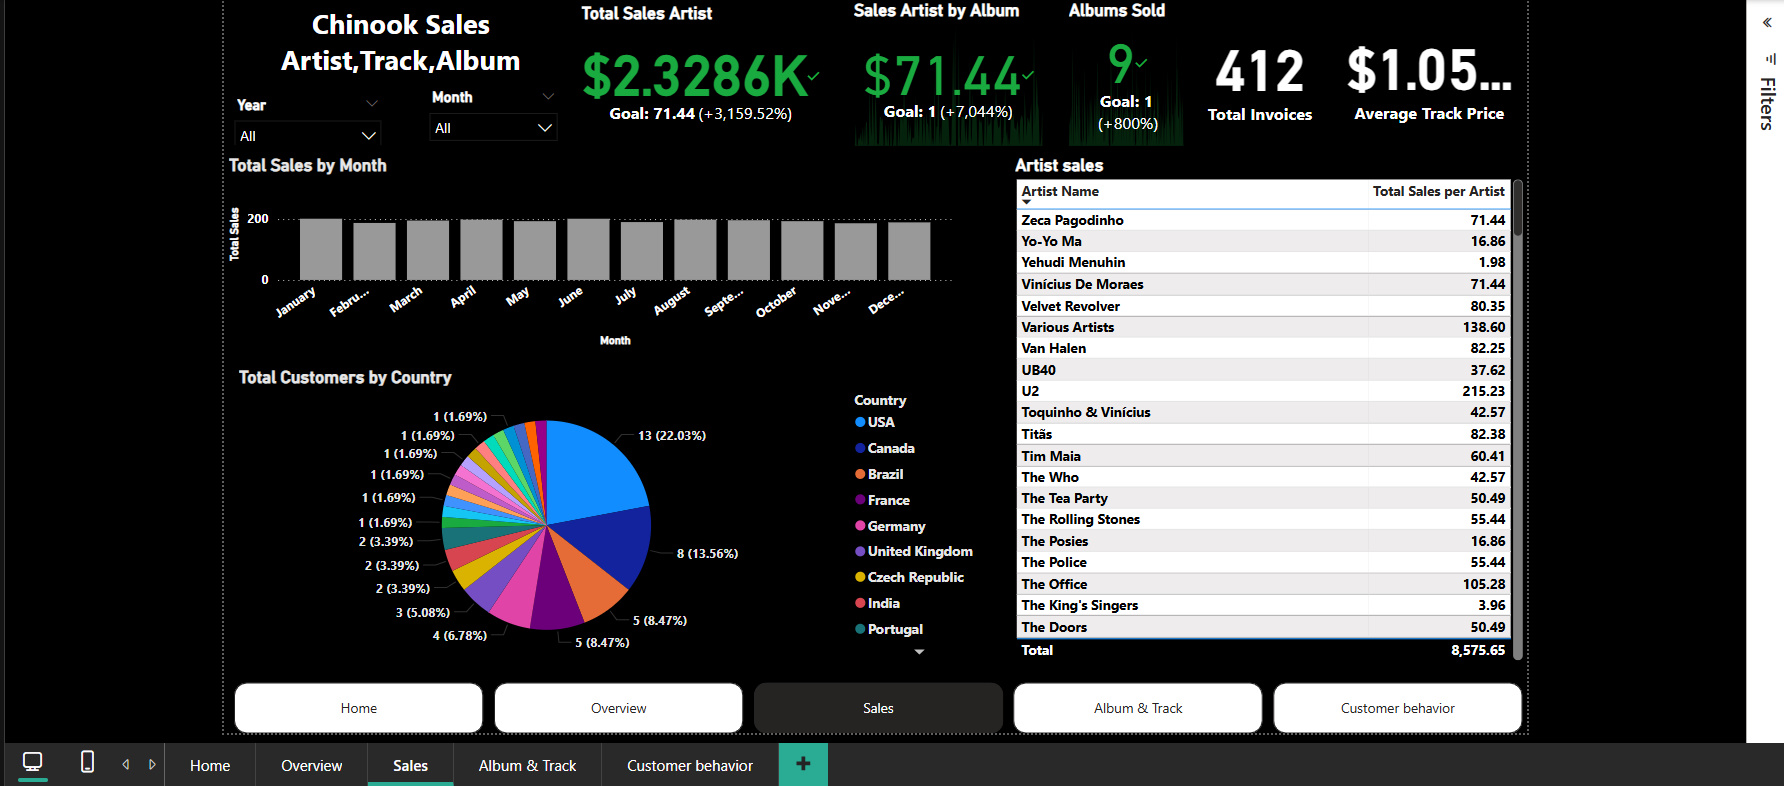

What the dashboard file says about the page in this screenshot:
{"tool":"powerbi","page":{"name":"overview","canvas":[1280,720],"ordinal":1},"visuals":[{"type":"kpi","fields":{"TrendLine":["chinook artist.Artist Name"],"Indicator":["chinook invoice.Total Sales"],"Goal":["chinook artist.Total Sales per Artist"]},"box":[236,0,196.2,148.2],"z":0},{"type":"kpi","fields":{"Indicator":["chinook artist.Total Sales per Artist"],"Goal":["chinook album.Total Albums"],"TrendLine":["chinook artist.Artist Name"]},"box":[432.2,0,207.2,148.2],"z":1000},{"type":"kpi","fields":{"Indicator":["chinook album.Total Albums Sold"],"Goal":["chinook album.Total Albums"],"TrendLine":["chinook album.Title"]},"box":[639.5,0,181.1,148.2],"z":2000},{"type":"card","fields":{"Values":["chinook invoice.Total Invoices"]},"box":[820.6,0,140,145.5],"z":3000},{"type":"card","fields":{"Values":["chinook track.Average Track Price"]},"box":[960.6,6.9,168.8,145.5],"z":4000},{"type":"card","fields":{"Values":["chinook customer.Total Customers"]},"box":[1149.9,4.1,115.3,144.1],"z":5000},{"type":"clusteredColumnChart","fields":{"Category":["chinook invoice.InvoiceDate.Variation.Date Hierarchy.Month"],"Y":["chinook invoice.Total Sales"]},"box":[9.6,149.6,673.8,233.3],"z":6000},{"type":"pieChart","fields":{"Y":["chinook customer.Total Customers"],"Category":["chinook customer.Country"]},"box":[9.6,382.8,673.8,337.6],"z":7000},{"type":"tableEx","fields":{"Values":["chinook artist.Name","chinook artist.Total Sales per Artist","chinook genre.Name"]},"box":[683.4,152.3,596.9,568.1],"z":8000},{"type":"textbox","box":[9.6,0,226.4,149.6],"z":9000}]}

Visuals, with their boxes on the page's 1280x720 design canvas (x1, y1, x2, y2). These are canvas units, not pixel positions in the 1784x786 screenshot, which may show the page scaled, cropped or inside an application window:
kpi - chinook artist.Artist Name x chinook invoice.Total Sales: pyautogui.locateOnScreen(236, 0, 432, 148)
kpi - chinook artist.Total Sales per Artist x chinook album.Total Albums: pyautogui.locateOnScreen(432, 0, 639, 148)
kpi - chinook album.Total Albums Sold x chinook album.Total Albums: pyautogui.locateOnScreen(640, 0, 821, 148)
card - chinook invoice.Total Invoices: pyautogui.locateOnScreen(821, 0, 961, 146)
card - chinook track.Average Track Price: pyautogui.locateOnScreen(961, 7, 1129, 152)
card - chinook customer.Total Customers: pyautogui.locateOnScreen(1150, 4, 1265, 148)
clusteredColumnChart - chinook invoice.InvoiceDate.Variation.Date Hierarchy.Month x chinook invoice.Total Sales: pyautogui.locateOnScreen(10, 150, 683, 383)
pieChart - chinook customer.Total Customers x chinook customer.Country: pyautogui.locateOnScreen(10, 383, 683, 720)
tableEx - chinook artist.Name x chinook artist.Total Sales per Artist: pyautogui.locateOnScreen(683, 152, 1280, 720)
textbox: pyautogui.locateOnScreen(10, 0, 236, 150)
